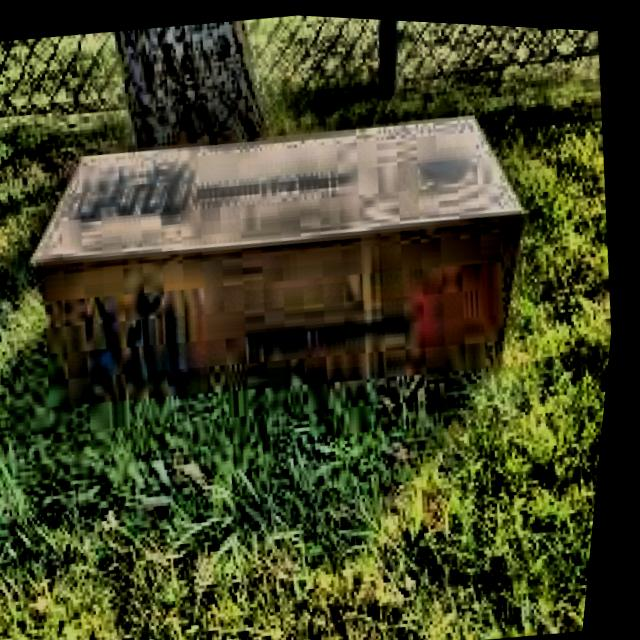Cardbox: (0, 69, 562, 457)
